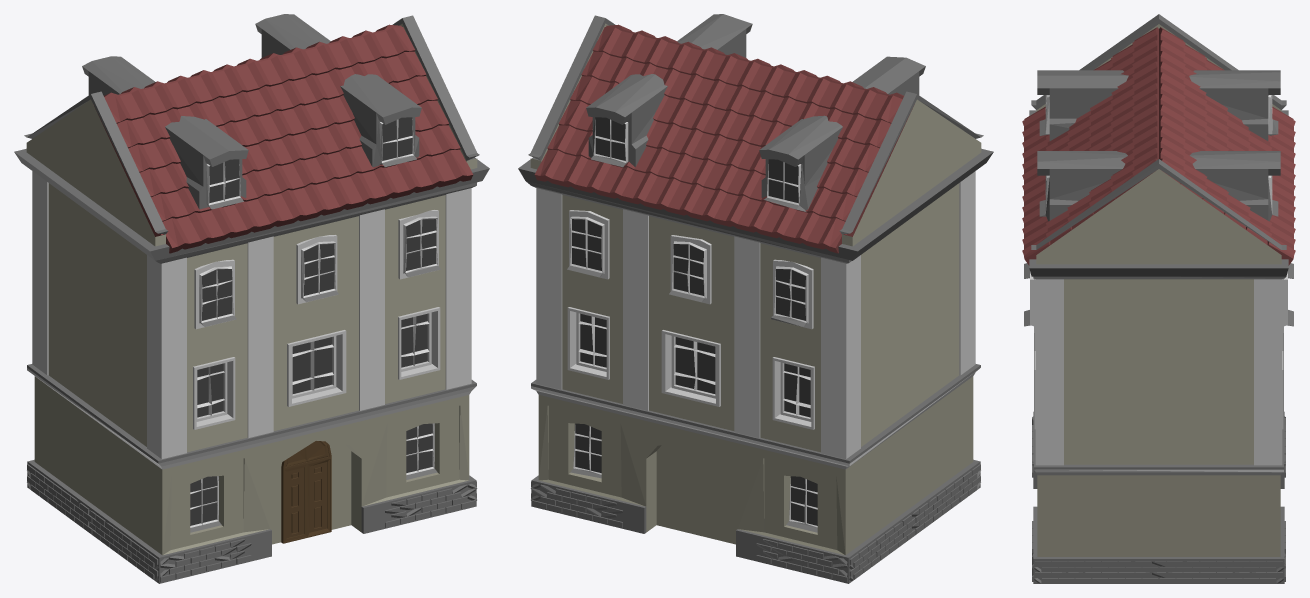
Rendered from b_building1_small.glb.
3 renders of one model, left to right at view 1: azimuth 30°, elevation 25°; view 2: azimuth 150°, elevation 25°; view 3: azimuth 270°, elevation 25°, orthographic. The views are drawn at different scales.
Parts seen in each view (by area): view 1: Building1_Small; view 2: Building1_Small; view 3: Building1_Small.
Boxes of the visible parts, x1,y1,x2,y2 form: Building1_Small: [14, 14, 489, 583]; Building1_Small: [518, 14, 993, 583]; Building1_Small: [1022, 14, 1295, 583].
Bounding box in the file's own units: 3.75 × 4.66 × 2.74.
